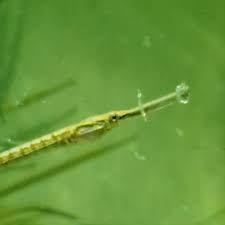Long-Snouted Pipefish: (2, 74, 191, 192)
